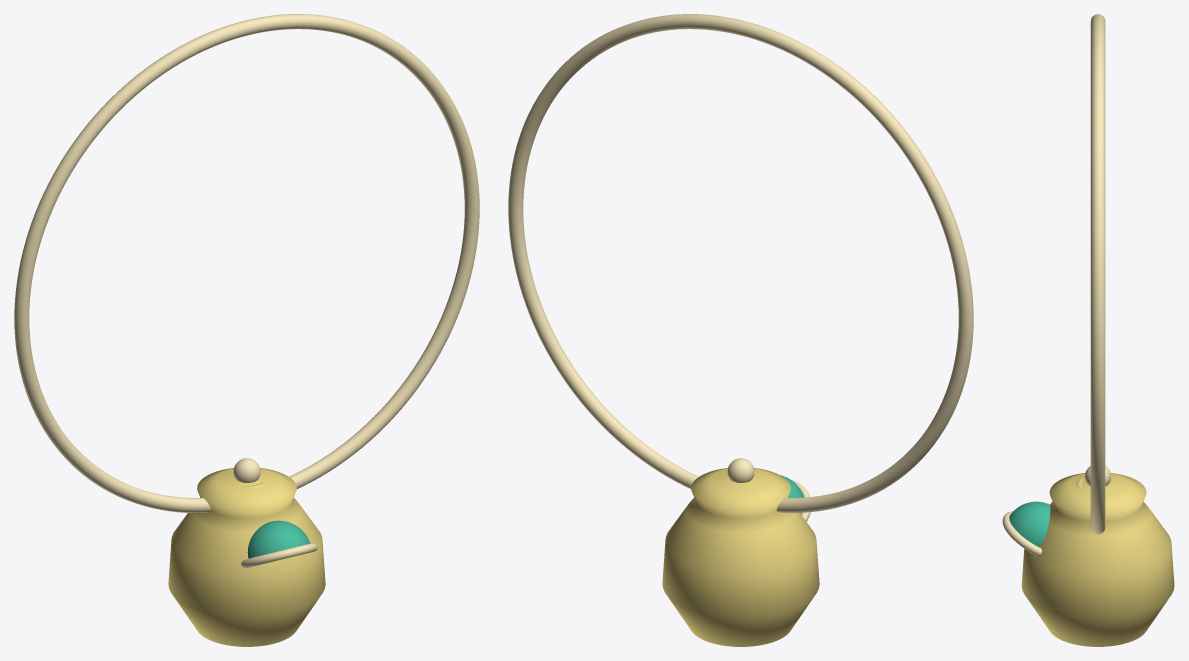
File: kalash-emerald-pendant.glb
The picture shows the model from 3 angles, left to right: view 1: azimuth 30°, elevation 25°; view 2: azimuth 150°, elevation 25°; view 3: azimuth 270°, elevation 25°; orthographic projection. The views are drawn at different scales.
Visible parts, largest first — view 1: kalash-emerald-pendant; view 2: kalash-emerald-pendant; view 3: kalash-emerald-pendant.
Part boxes in pixels (box(x1,y1,x2,y2)): kalash-emerald-pendant: box(14, 14, 479, 646); kalash-emerald-pendant: box(508, 14, 973, 646); kalash-emerald-pendant: box(1002, 14, 1174, 646).
Bounding box in the file's own units: 2.66 × 3.4 × 0.8786.
